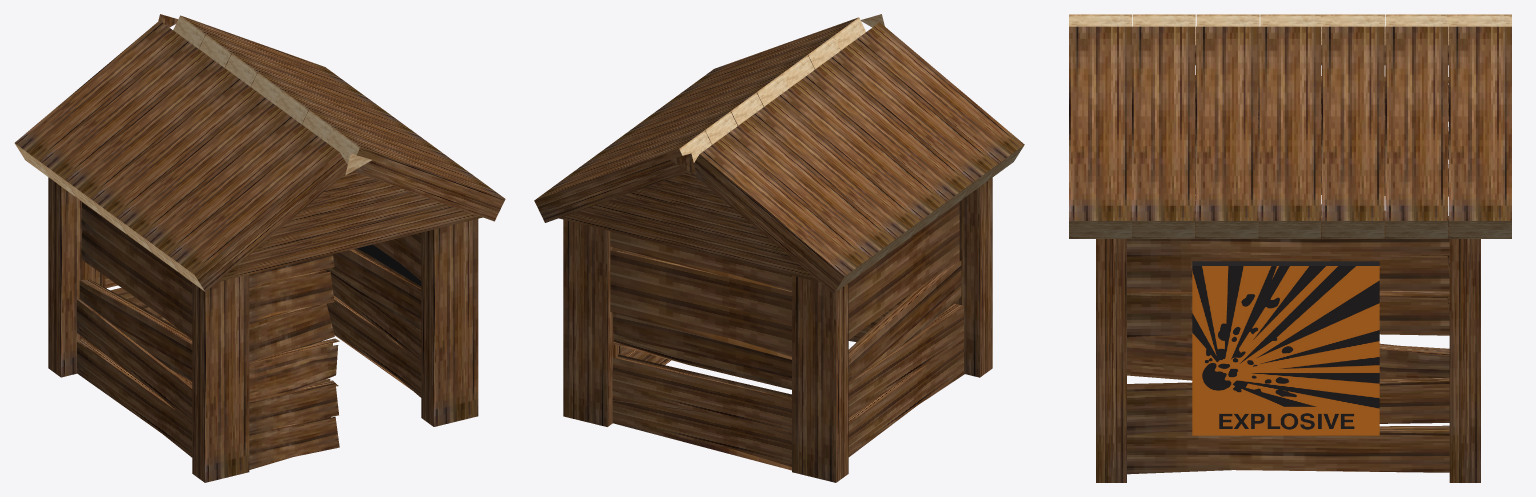
Rendered from shed.glb.
The picture shows the model from 3 angles, left to right: view 1: azimuth 30°, elevation 25°; view 2: azimuth 150°, elevation 25°; view 3: azimuth 270°, elevation 25°; orthographic projection. The views are drawn at different scales.
Visible parts, largest first — view 1: polySurface159, Cube; view 2: polySurface159; view 3: polySurface159, Cube.
Boxes of the visible parts, left/top/right/bottom form: polySurface159: left=14, top=14, right=505, bottom=482; Cube: left=357, top=244, right=421, bottom=286; polySurface159: left=534, top=14, right=1024, bottom=482; polySurface159: left=1069, top=14, right=1511, bottom=482; Cube: left=1192, top=261, right=1379, bottom=435.
Size of the model in its own units: 8.21 by 7.94 by 8.71.
Materials: 4 (4 with a texture image).
